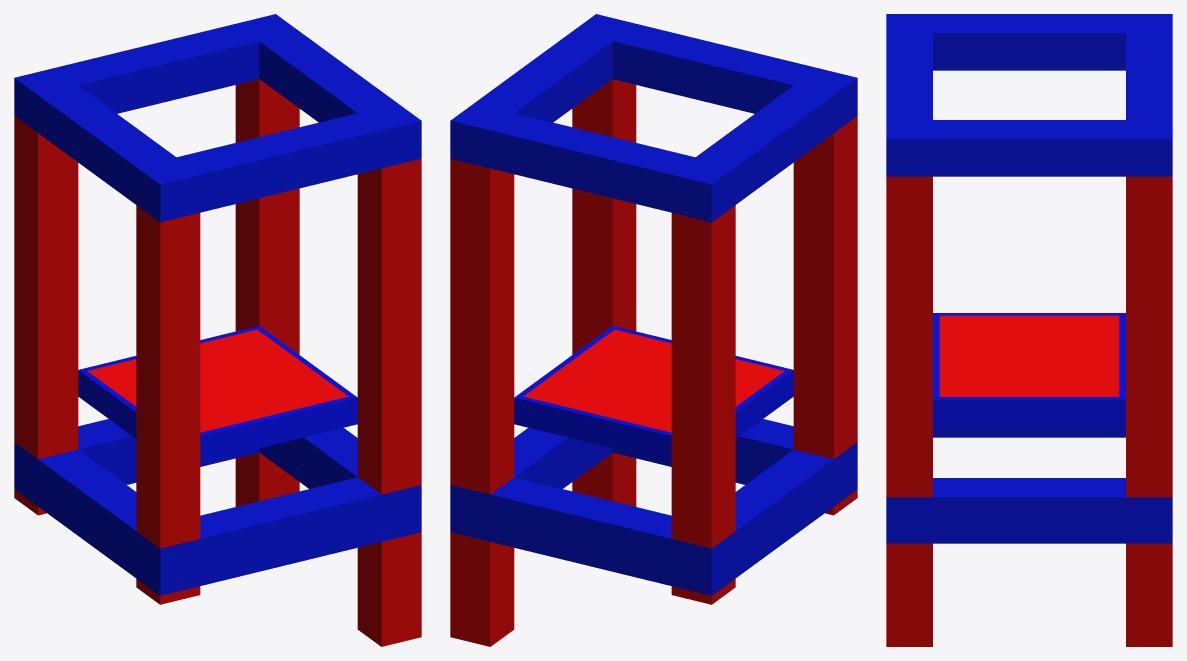
The model's file is Ascenseur2.FBX.
The picture shows the model from 3 angles, left to right: view 1: azimuth 30°, elevation 25°; view 2: azimuth 150°, elevation 25°; view 3: azimuth 270°, elevation 25°; orthographic projection.
Visible parts, largest first — view 1: SupportAscenseur, PlateformeAscenseur; view 2: SupportAscenseur, PlateformeAscenseur; view 3: SupportAscenseur, PlateformeAscenseur.
Boxes of the visible parts, x1,y1,x2,y2 form: SupportAscenseur: (14,14,421,646); PlateformeAscenseur: (78,325,357,462); SupportAscenseur: (450,14,857,646); PlateformeAscenseur: (514,325,793,462); SupportAscenseur: (886,14,1172,646); PlateformeAscenseur: (933,313,1125,425).
Size of the model in its own units: 146 by 275 by 141.
